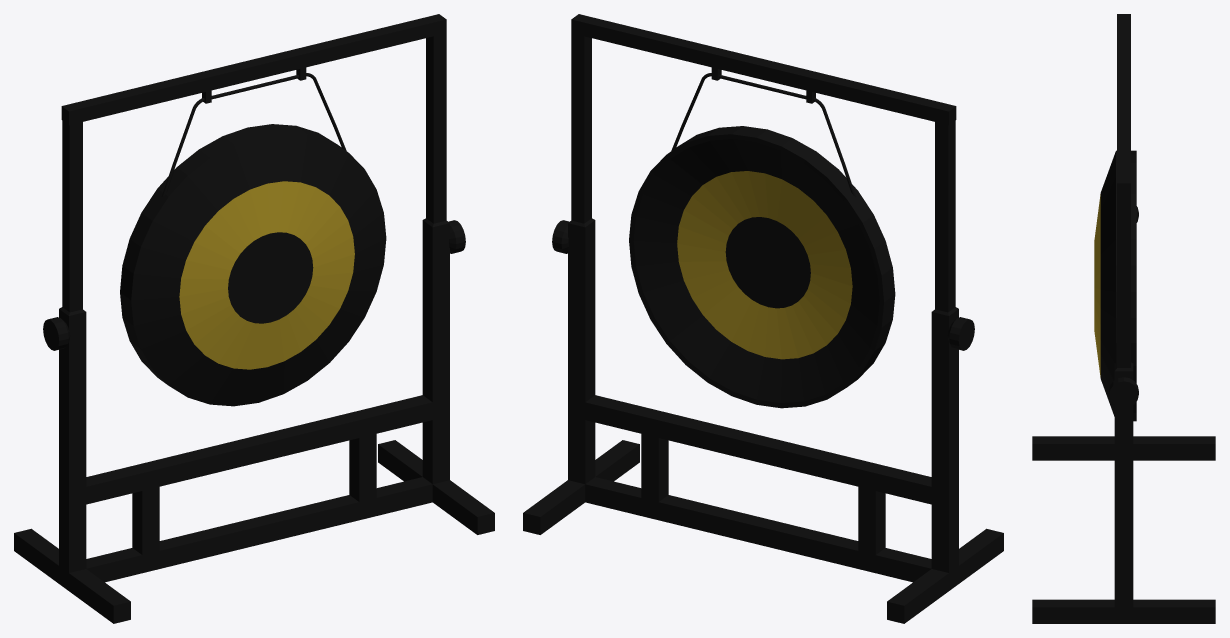
File: Gong-new (1).fbx
The picture shows the model from 3 angles, left to right: view 1: azimuth 30°, elevation 25°; view 2: azimuth 150°, elevation 25°; view 3: azimuth 270°, elevation 25°; orthographic projection. The views are drawn at different scales.
Visible parts, largest first — view 1: Cube.002, Cylinder.002, Cylinder.001, Cube.003, Cube.004, Cylinder.003, Cylinder; view 2: Cube.002, Cylinder.002, Cylinder.001, Cube.003, Cube.004, Cylinder.003, Cylinder; view 3: Cube.002, Cylinder.002, Cube.003, Cube.004, Cylinder.001, Cylinder.
Part boxes in pixels (x1,y1,x2,y2): Cube.002: (14, 218, 494, 623); Cylinder.002: (120, 73, 386, 406); Cylinder.001: (179, 181, 354, 369); Cube.003: (62, 14, 446, 312); Cube.004: (61, 17, 433, 125); Cylinder.003: (228, 232, 313, 323); Cylinder: (43, 220, 465, 350); Cube.002: (523, 218, 1003, 623); Cylinder.002: (629, 73, 895, 408); Cylinder.001: (677, 171, 852, 359); Cube.003: (571, 14, 955, 312); Cube.004: (571, 17, 956, 125); Cylinder.003: (725, 217, 810, 308); Cylinder: (552, 220, 974, 350); Cube.002: (1032, 362, 1215, 623); Cylinder.002: (1100, 150, 1136, 421); Cube.003: (1117, 14, 1130, 367); Cube.004: (1117, 14, 1130, 177); Cylinder.001: (1094, 194, 1100, 377); Cylinder: (1109, 206, 1138, 408).
Bounding box in the file's own units: 524 × 589 × 222.
